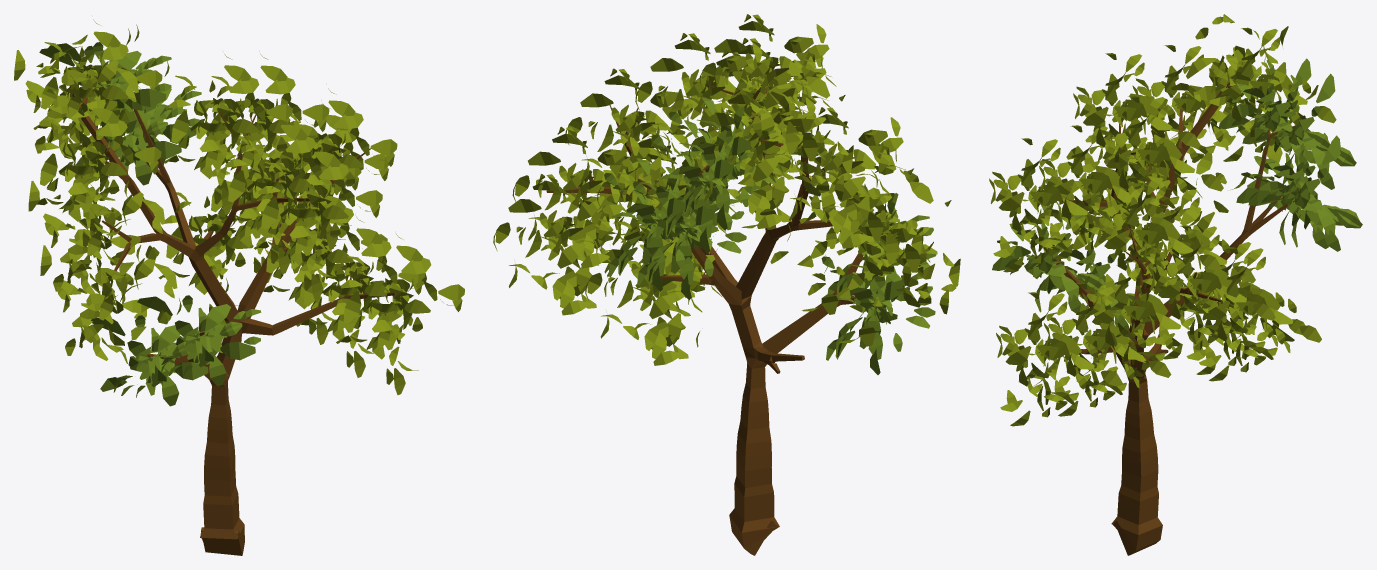
File: tree.fbx
3 views of the same model, side by side, from view 1: azimuth 30°, elevation 25°; view 2: azimuth 150°, elevation 25°; view 3: azimuth 270°, elevation 25° (orthographic). The views are drawn at different scales.
Visible parts, largest first — view 1: Plane.008, Cube; view 2: Plane.008, Cube; view 3: Plane.008, Cube.
Part boxes in pixels (bbox=[...]): Plane.008: bbox=[14, 19, 464, 406]; Cube: bbox=[69, 82, 396, 555]; Plane.008: bbox=[493, 14, 960, 374]; Cube: bbox=[546, 62, 898, 555]; Plane.008: bbox=[989, 14, 1362, 426]; Cube: bbox=[1040, 79, 1296, 555].
Size of the model in its own units: 1161 by 1516 by 1053.
